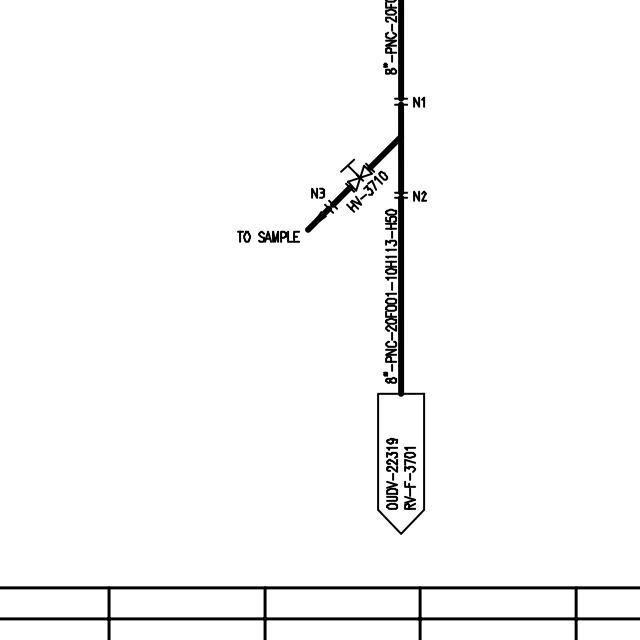HVWT: (337, 153, 375, 194)
